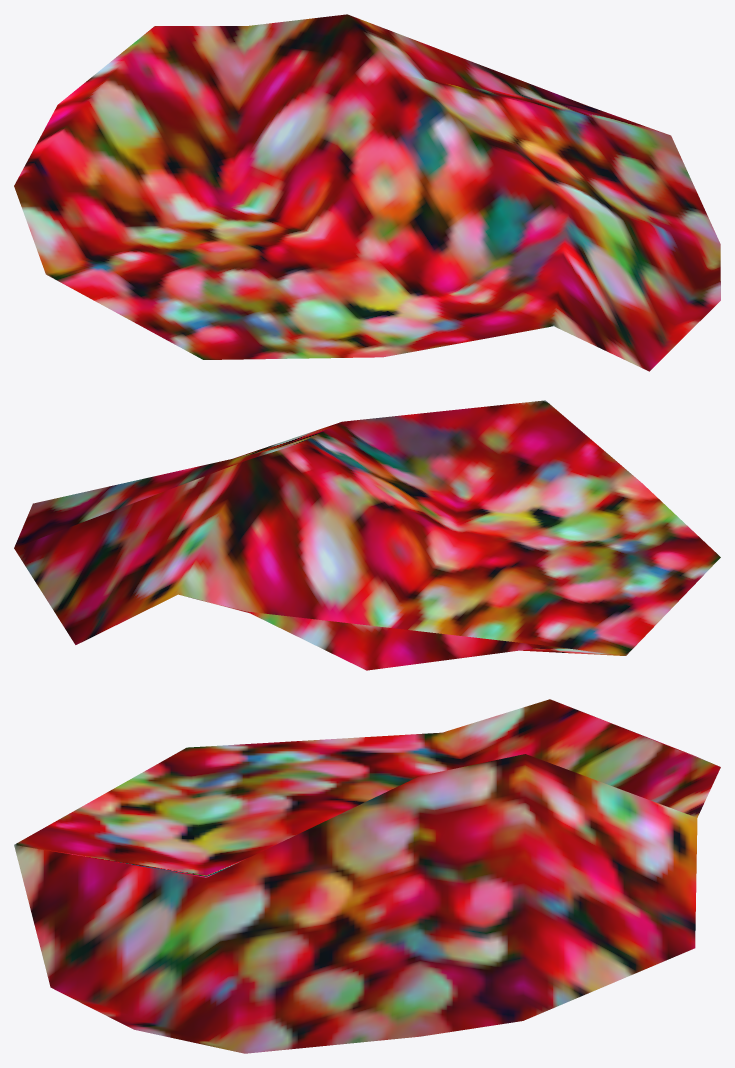
The model's file is fungus_Input_GEO_01.fbx.
3 views of the same model, one above another, from view 1: azimuth 30°, elevation 25°; view 2: azimuth 150°, elevation 25°; view 3: azimuth 270°, elevation 25° (orthographic). The views are drawn at different scales.
Visible parts, largest first — view 1: fungus_Input_GEO_01; view 2: fungus_Input_GEO_01; view 3: fungus_Input_GEO_01.
Boxes of the visible parts, <box> form: fungus_Input_GEO_01: <box>14,14,720,371</box>; fungus_Input_GEO_01: <box>14,400,720,670</box>; fungus_Input_GEO_01: <box>14,699,720,1053</box>.
Size of the model in its own units: 1.49 by 0.4636 by 1.48.
1 material, 1 textured.
